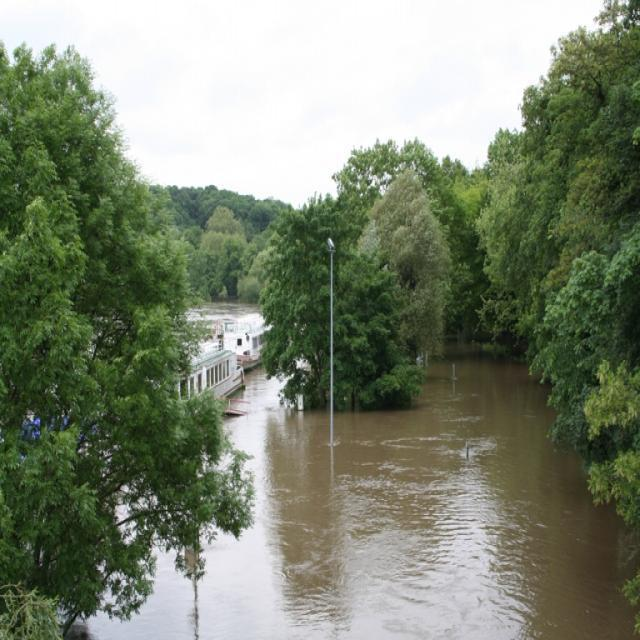flood: (86, 354, 639, 640), (191, 303, 260, 328)
house: (174, 302, 260, 393)
